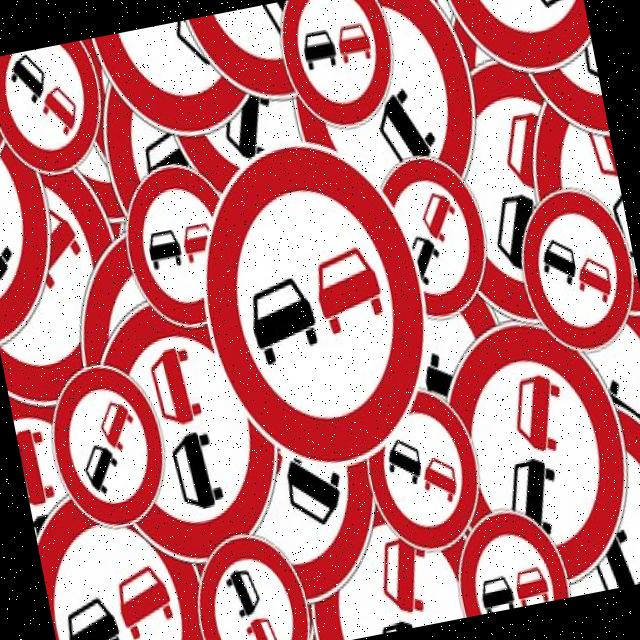no_passing: (192, 132, 454, 482), (506, 167, 640, 362), (38, 354, 178, 540), (272, 0, 415, 142), (0, 36, 126, 184), (176, 521, 332, 640), (444, 499, 580, 618)
